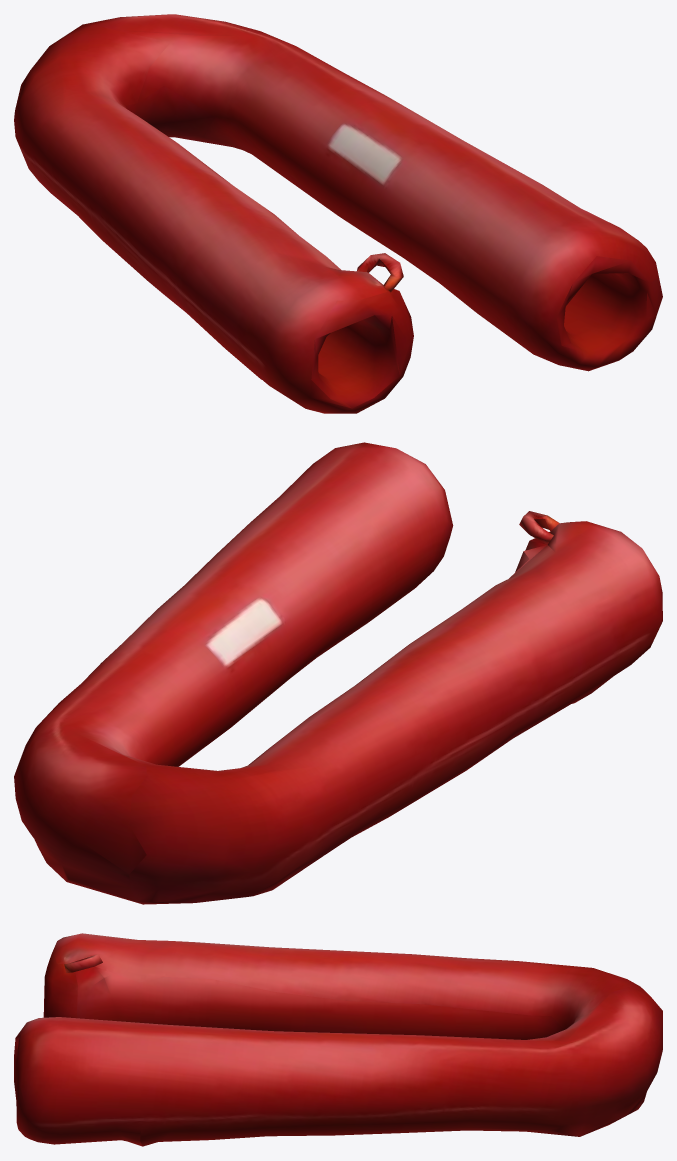
Rendered from rescueFloat.glb.
3 views of the same model, one above another, from view 1: azimuth 30°, elevation 25°; view 2: azimuth 150°, elevation 25°; view 3: azimuth 270°, elevation 25° (orthographic). The views are drawn at different scales.
Parts seen in each view (by area): view 1: model; view 2: model; view 3: model.
Part boxes in pixels (x1,y1,x2,y2): model: (14,14,662,413); model: (14,442,662,904); model: (14,933,662,1146).
Size of the model in its own units: 1.01 by 0.3772 by 1.89.
Materials: 1 (1 with a texture image).
